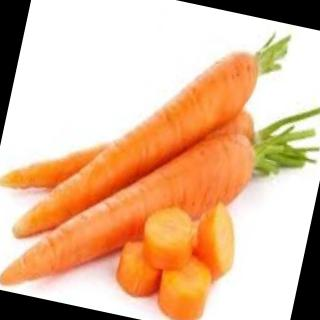Wortel: (11, 1, 291, 282), (1, 76, 285, 320)
